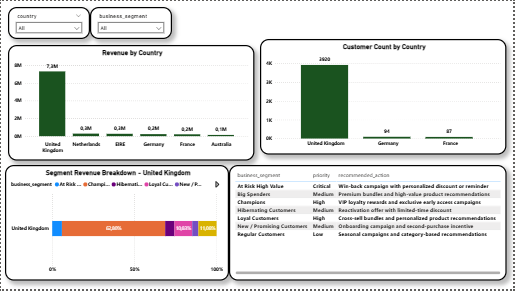

Layout of this report page (visuals, bound fields, positions):
{"tool":"powerbi","page":{"name":"Country & Marketing Actions","canvas":[1280,720],"ordinal":2},"visuals":[{"type":"slicer","fields":{"Values":["public customer_business_segments.country"]},"box":[17.5,15,205,80],"z":0},{"type":"slicer","fields":{"Values":["public customer_business_segments.business_segment"]},"box":[222.5,15,205,80],"z":1},{"type":"clusteredColumnChart","title":"Revenue by Country","fields":{"Category":["public vw_country_segment_summary.country"],"Y":["Sum(public vw_country_segment_summary.total_revenue)"]},"box":[17.8,108.9,615.6,288.9],"z":2},{"type":"hundredPercentStackedBarChart","title":"Segment Revenue Breakdown - United Kingdom","fields":{"Category":["public vw_country_segment_summary.country"],"Y":["Sum(public vw_country_segment_summary.total_revenue)"],"Series":["public vw_country_segment_summary.business_segment"]},"box":[10,408.8,560,288.8],"z":3},{"type":"clusteredColumnChart","title":"Customer Count by Country","fields":{"Category":["public vw_country_segment_summary.country"],"Y":["Sum(public vw_country_segment_summary.customers)"]},"box":[647.8,95.6,615.6,288.9],"z":4},{"type":"tableEx","fields":{"Values":["Marketing_Actions.business_segment","Marketing_Actions.priority","Marketing_Actions.recommended_action"]},"box":[570,408.8,693.8,288.8],"z":5}]}

Visuals, with their boxes in screenshot pixels (x1, y1, x2, y2), scaled from the page's 1280x720 canvas onto the 515x292 screenshot:
slicer - public customer_business_segments.country: box(7, 6, 90, 39)
slicer - public customer_business_segments.business_segment: box(90, 6, 172, 39)
"Revenue by Country" clusteredColumnChart: box(7, 44, 255, 161)
"Segment Revenue Breakdown - United Kingdom" hundredPercentStackedBarChart: box(4, 166, 229, 283)
"Customer Count by Country" clusteredColumnChart: box(261, 39, 508, 156)
tableEx - Marketing_Actions.business_segment x Marketing_Actions.priority: box(229, 166, 508, 283)
